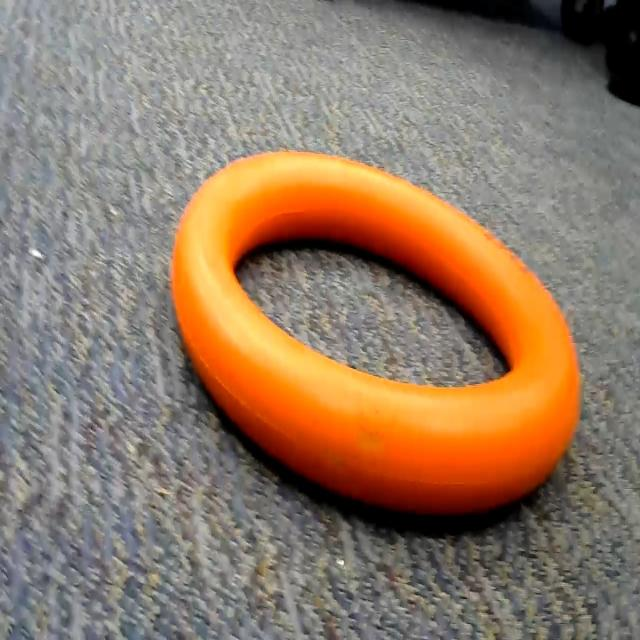note: (166, 107, 598, 543)
